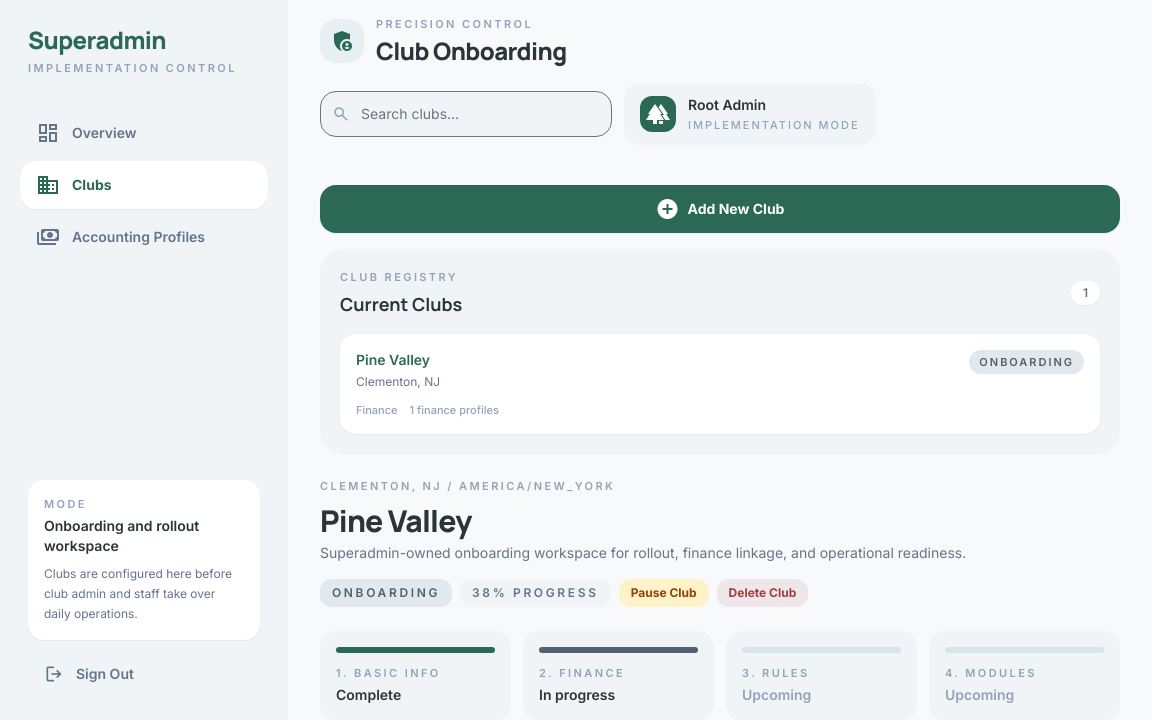
SuperadminClubsPage › recovers registry state when delete returns 404
This screenshot has width=1152, height=720.
Click the button "Delete Club" at (762, 592), box 717,578 -> 808,606
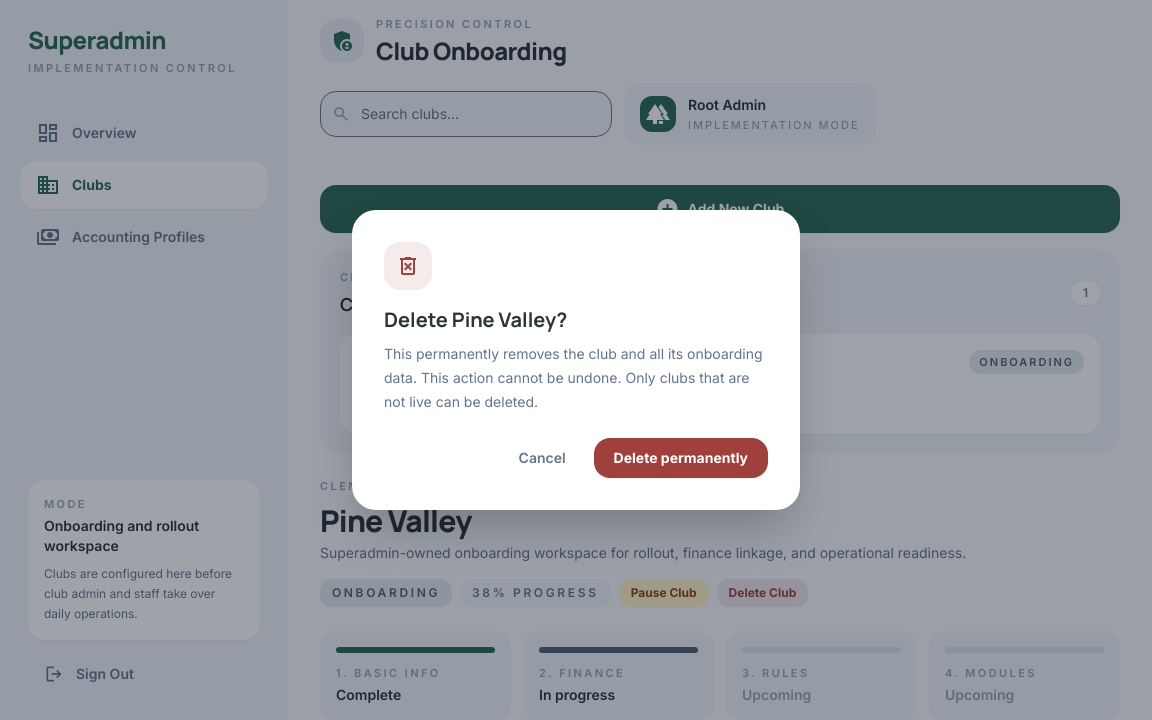
Click the button "Delete permanently" at (681, 458), box 594,438 -> 768,478
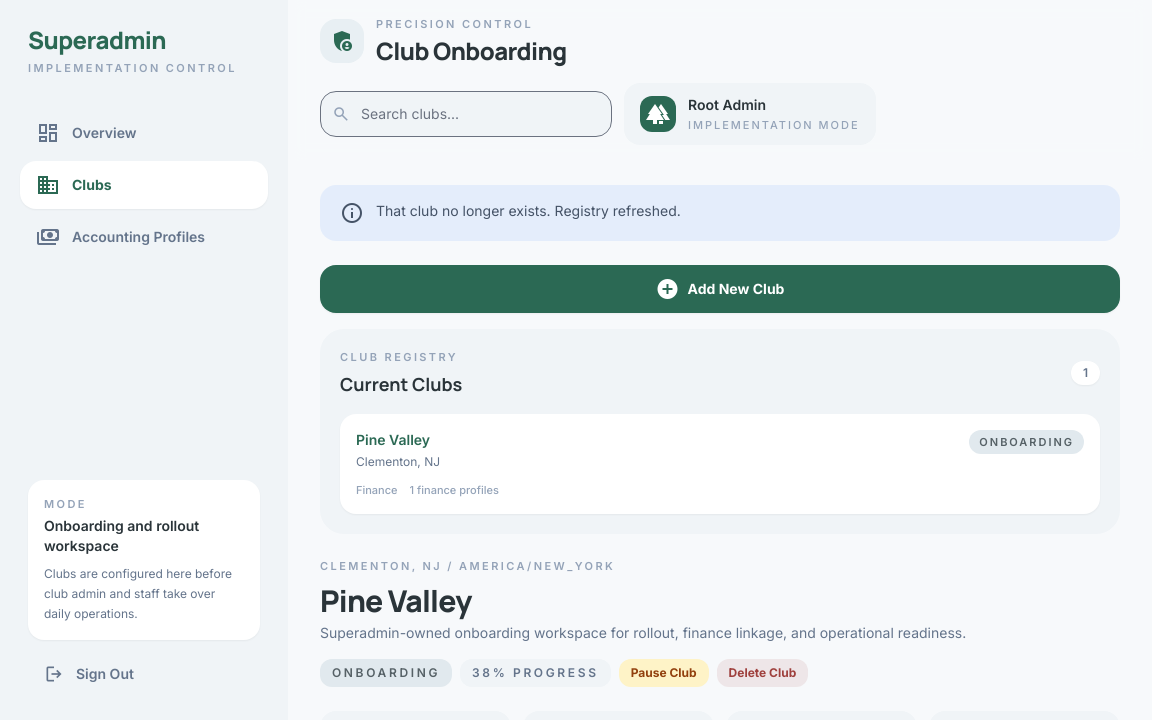
Result: the text "That club no longer exists. Registry refreshed." is shown at 376,201 -> 681,221
